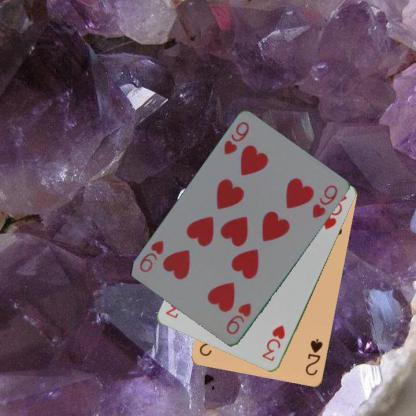2s: (302, 336, 324, 378)
3h: (260, 322, 286, 363)
9h: (221, 119, 250, 157), (223, 300, 252, 336)
